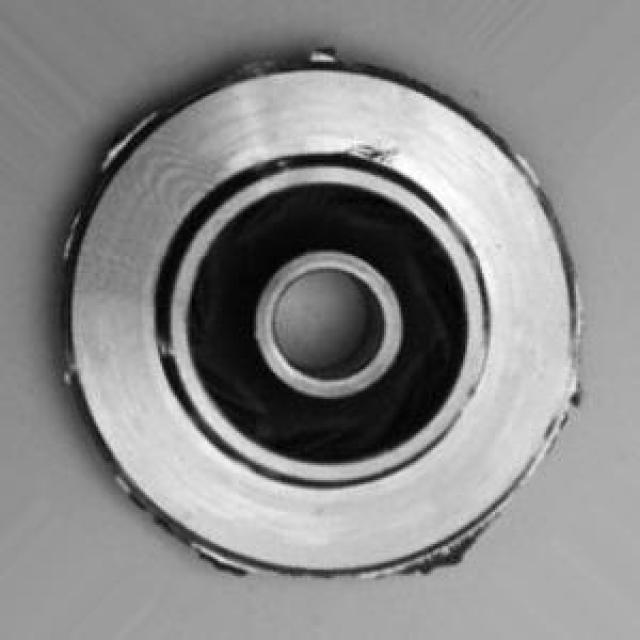Defect: (352, 131, 395, 175)
